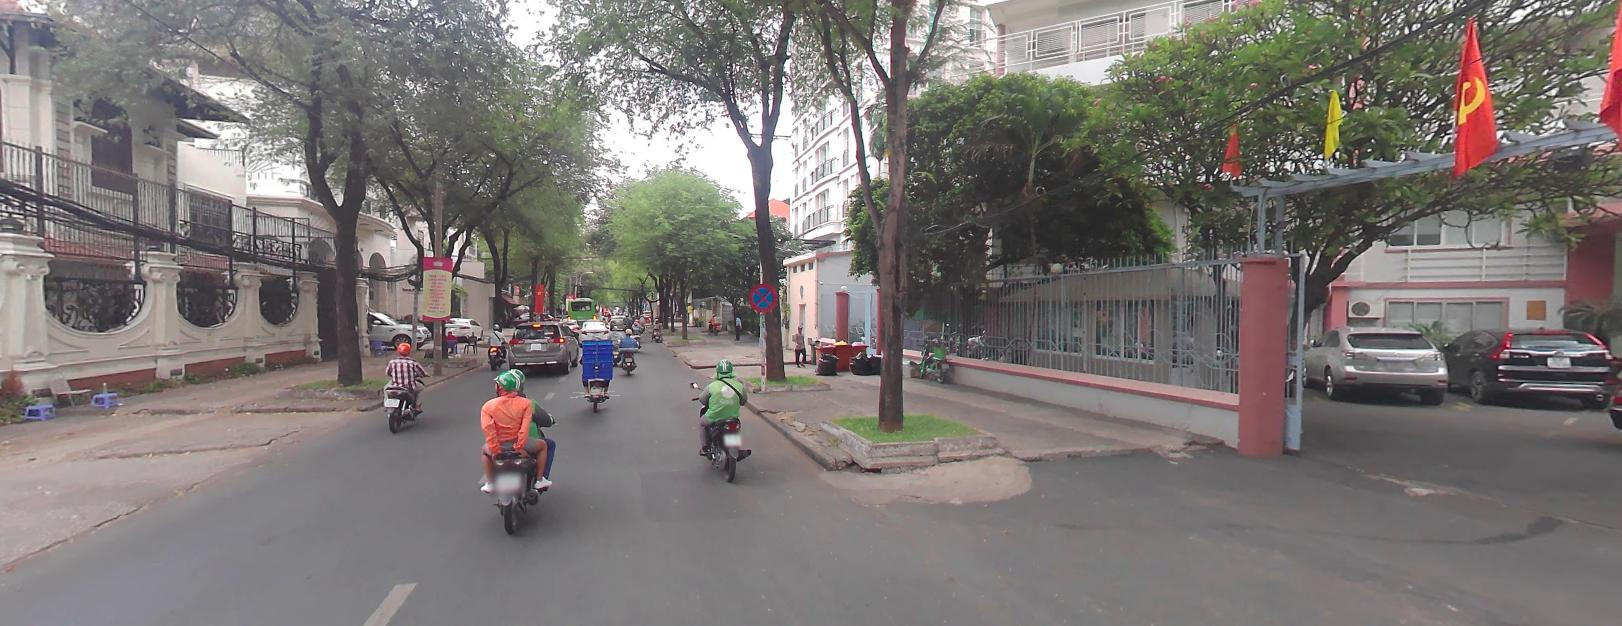Cam dung va do: (748, 284, 777, 311)
